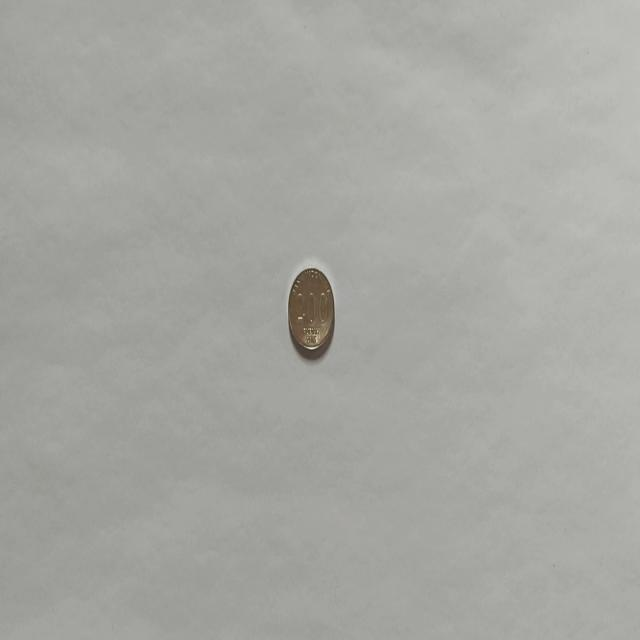dua ratus rupiah: (286, 265, 336, 355)
